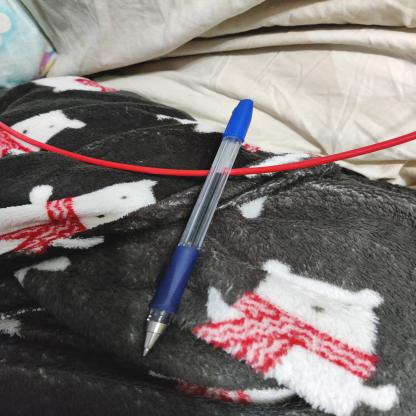Pen: (114, 87, 268, 361)
